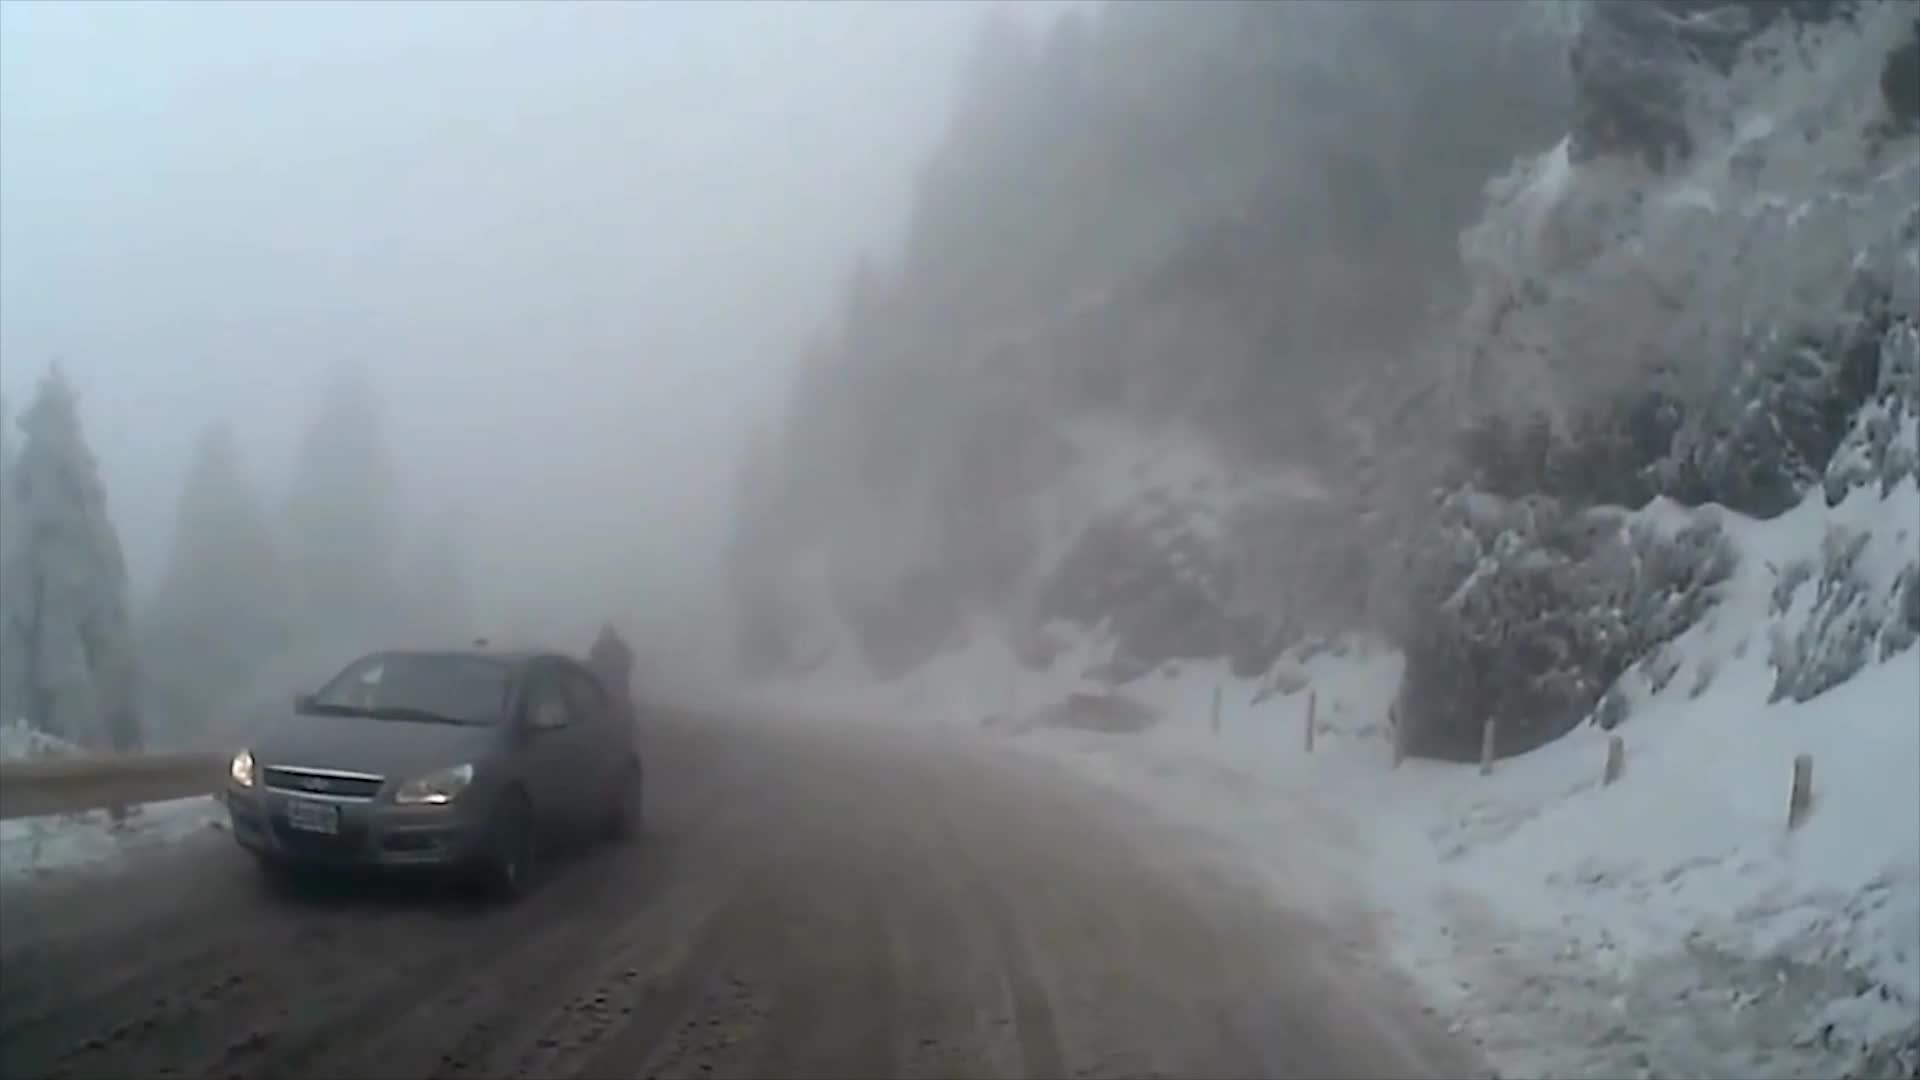vehicle: (225, 644, 644, 903)
